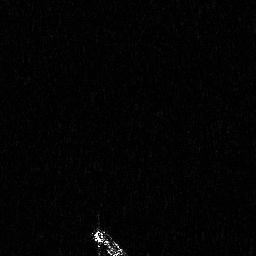ship: (88, 216, 126, 256)
